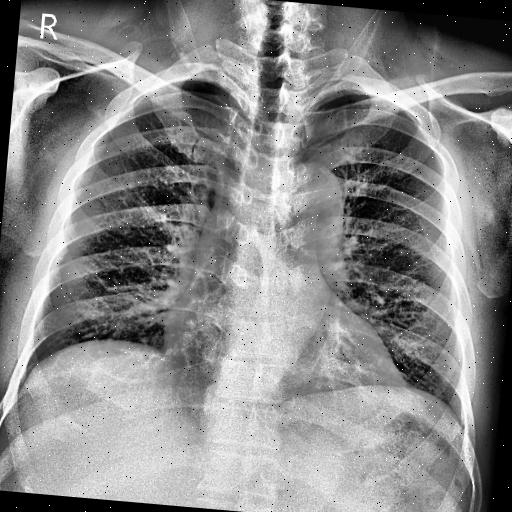0- Aortic enlargement: (266, 162, 348, 250), (281, 156, 350, 258), (281, 160, 347, 242)
3- Cardiomegaly: (159, 288, 407, 391), (160, 310, 404, 400)
